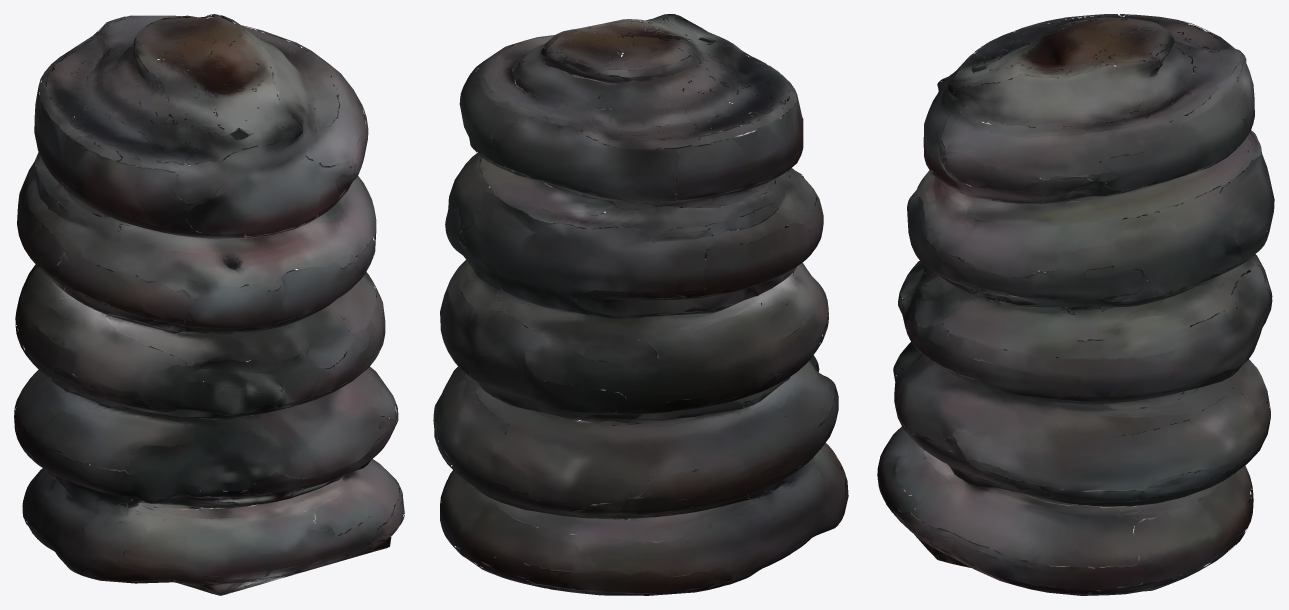
File: mygeeto-disc-tower.glb
3 renders of one model, left to right at view 1: azimuth 30°, elevation 25°; view 2: azimuth 150°, elevation 25°; view 3: azimuth 270°, elevation 25°, orthographic. The views are drawn at different scales.
Visible parts, largest first — view 1: low; view 2: low; view 3: low.
Part boxes in pixels (left/top/right/bottom): low: left=14, top=14, right=404, bottom=595; low: left=433, top=14, right=848, bottom=595; low: left=877, top=14, right=1274, bottom=595.
Bounding box in the file's own units: 0.5993 × 0.8347 × 0.6133.
1 material, 1 textured.
